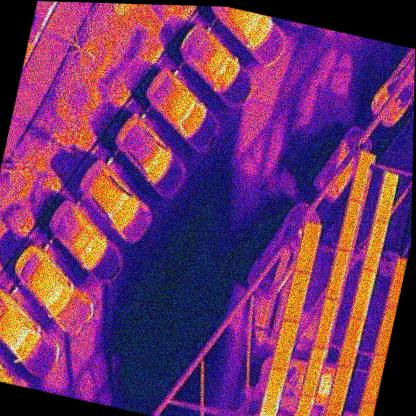Diode: (337, 316, 365, 372), (258, 364, 288, 416), (349, 266, 376, 322), (317, 410, 340, 416)
Normal: (270, 317, 299, 377), (312, 293, 340, 351), (281, 267, 309, 325), (335, 197, 363, 255), (293, 220, 321, 276), (300, 345, 328, 400), (324, 246, 351, 302), (326, 362, 353, 416), (362, 218, 387, 272), (375, 170, 399, 223), (348, 150, 371, 202), (288, 391, 315, 416), (350, 400, 375, 416)
